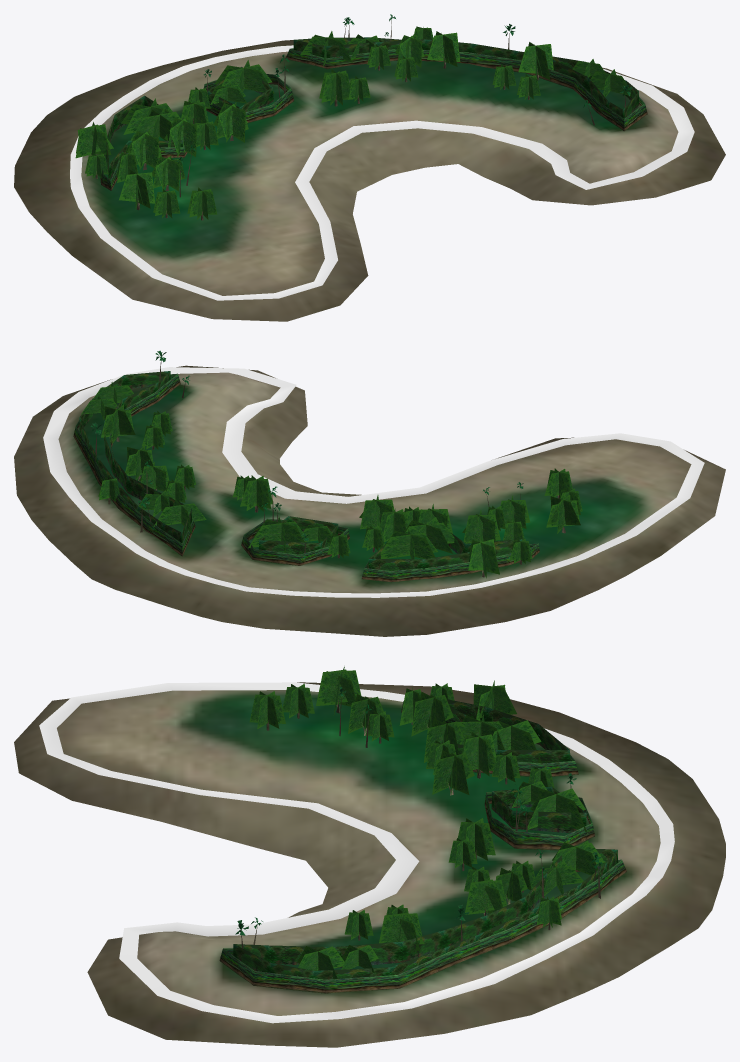
Rendered from pir_m_are_isl_rumRunner_dock_lod.fbx.
3 views of the same model, one above another, from view 1: azimuth 30°, elevation 25°; view 2: azimuth 150°, elevation 25°; view 3: azimuth 270°, elevation 25° (orthographic). The views are drawn at different scales.
Parts seen in each view (by area): view 1: ground, mesh_tide3, berm_01, tree_wall, berm_2, tree_wall_3, tree_wall_2, gen_tree_b_43.005, gen_tree_b_43.002, gen_tree_canopy_53, gen_tree_b_43.004, gen_tree_b_43.007 (+2 smaller); view 2: ground, mesh_tide3, tree_wall, berm_01, tree_wall_3, berm_3, berm_2, tree_wall_2, gen_tree_canopy_74, gen_tree_canopy_13, gen_tree_b_42.001, gen_tree_canopy_54 (+2 smaller); view 3: ground, mesh_tide3, tree_wall, berm_01, tree_wall_3, tree_wall_2, berm_2, berm_3, gen_tree_b_43.007, gen_tree_b_43.001, gen_tree_b_42.005, gen_tree_b_43 (+4 smaller).
Boxes of the visible parts, bbox=[...] form: ground: bbox=[14, 40, 725, 321]; mesh_tide3: bbox=[70, 45, 694, 300]; berm_01: bbox=[285, 48, 647, 131]; tree_wall: bbox=[293, 37, 638, 118]; berm_2: bbox=[203, 74, 293, 123]; tree_wall_3: bbox=[105, 95, 182, 179]; tree_wall_2: bbox=[207, 67, 273, 111]; gen_tree_b_43.005: bbox=[119, 172, 154, 203]; gen_tree_b_43.002: bbox=[518, 44, 553, 73]; gen_tree_canopy_53: bbox=[214, 65, 274, 93]; gen_tree_b_43.004: bbox=[427, 32, 460, 61]; gen_tree_b_43.007: bbox=[214, 103, 245, 142]; ground: bbox=[14, 365, 725, 636]; mesh_tide3: bbox=[43, 367, 704, 597]; tree_wall: bbox=[79, 371, 191, 543]; berm_01: bbox=[73, 373, 195, 556]; tree_wall_3: bbox=[368, 533, 522, 570]; berm_3: bbox=[361, 543, 539, 582]; berm_2: bbox=[241, 518, 349, 565]; tree_wall_2: bbox=[258, 516, 338, 554]; gen_tree_canopy_74: bbox=[380, 533, 437, 558]; gen_tree_canopy_13: bbox=[153, 503, 206, 526]; gen_tree_b_42.001: bbox=[463, 514, 500, 543]; gen_tree_canopy_54: bbox=[248, 521, 302, 548]; ground: bbox=[14, 682, 725, 1047]; mesh_tide3: bbox=[39, 682, 674, 1023]; tree_wall: bbox=[233, 849, 617, 979]; berm_01: bbox=[219, 859, 626, 993]; tree_wall_3: bbox=[447, 699, 570, 763]; tree_wall_2: bbox=[491, 786, 586, 833]; berm_2: bbox=[484, 792, 594, 850]; berm_3: bbox=[401, 701, 578, 776]; gen_tree_b_43.007: bbox=[432, 753, 474, 794]; gen_tree_b_43.001: bbox=[411, 695, 453, 736]; gen_tree_b_42.005: bbox=[316, 670, 361, 705]; gen_tree_b_43: bbox=[473, 684, 516, 714].
Size of the model in its own units: 138306 by 16094 by 113871.
3 materials, 3 textured.
